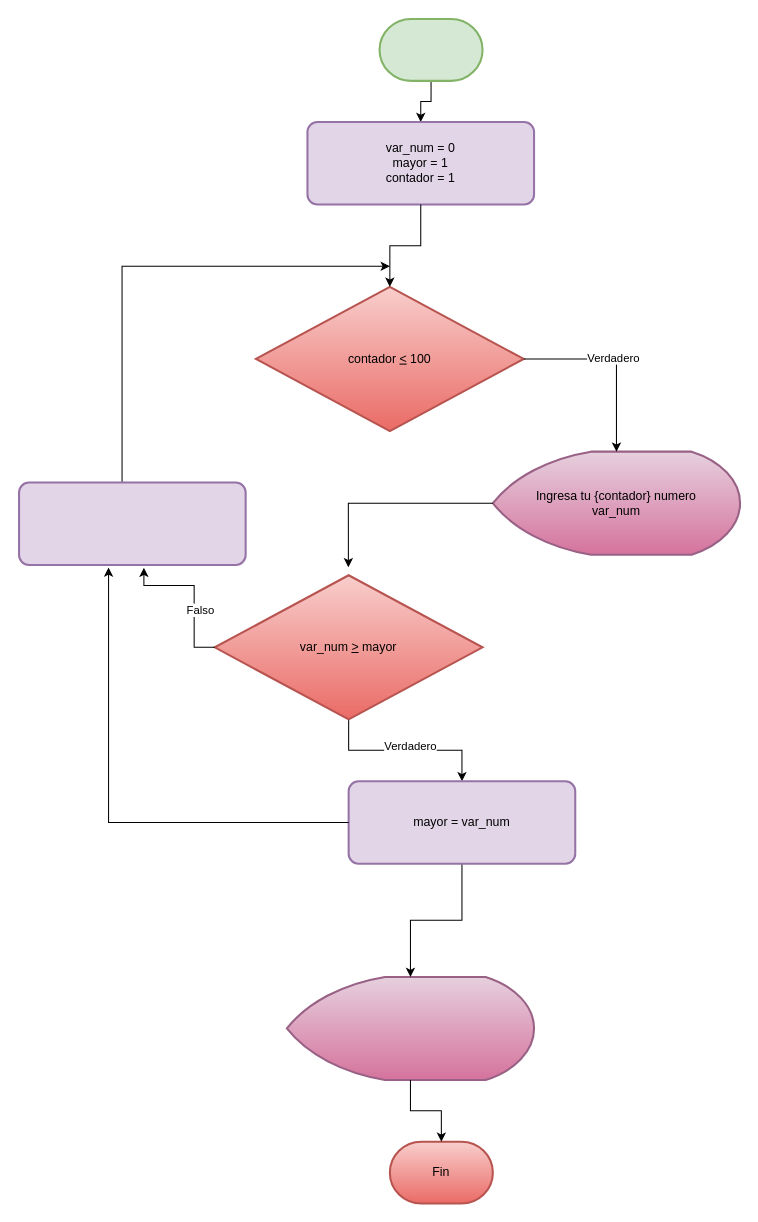
Image size: 758x1222. Some labels were removed from this diagram. Here are the shapes that lost their labels. From the top down, the centre of each, then its label:
the point at 430,49: Inicio
the point at 132,523: contador = contador +1
the point at 410,1027: El numero Mayor de los que pusiste fue mayor
